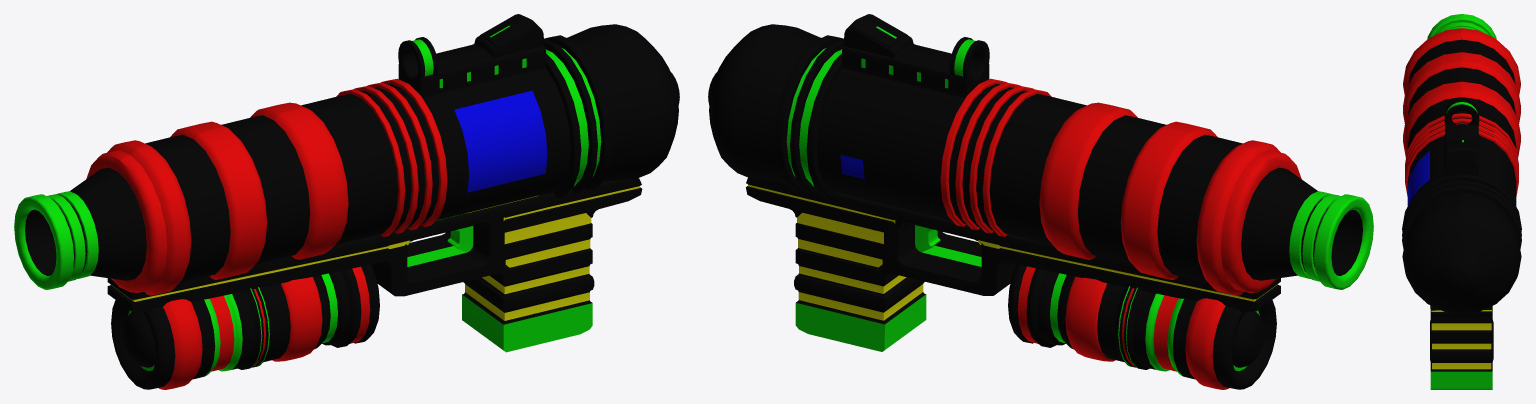
The model's file is bubblegun.fbx.
The picture shows the model from 3 angles, left to right: view 1: azimuth 30°, elevation 25°; view 2: azimuth 150°, elevation 25°; view 3: azimuth 270°, elevation 25°; orthographic projection. The views are drawn at different scales.
Parts seen in each view (by area): view 1: BubblePopper_; view 2: BubblePopper_; view 3: BubblePopper_.
Boxes of the visible parts, bbox=[...] form: BubblePopper_: bbox=[14, 14, 679, 389]; BubblePopper_: bbox=[708, 14, 1373, 389]; BubblePopper_: bbox=[1402, 14, 1521, 389].
Bounding box in the file's own units: 10.11 × 4.76 × 2.2.
